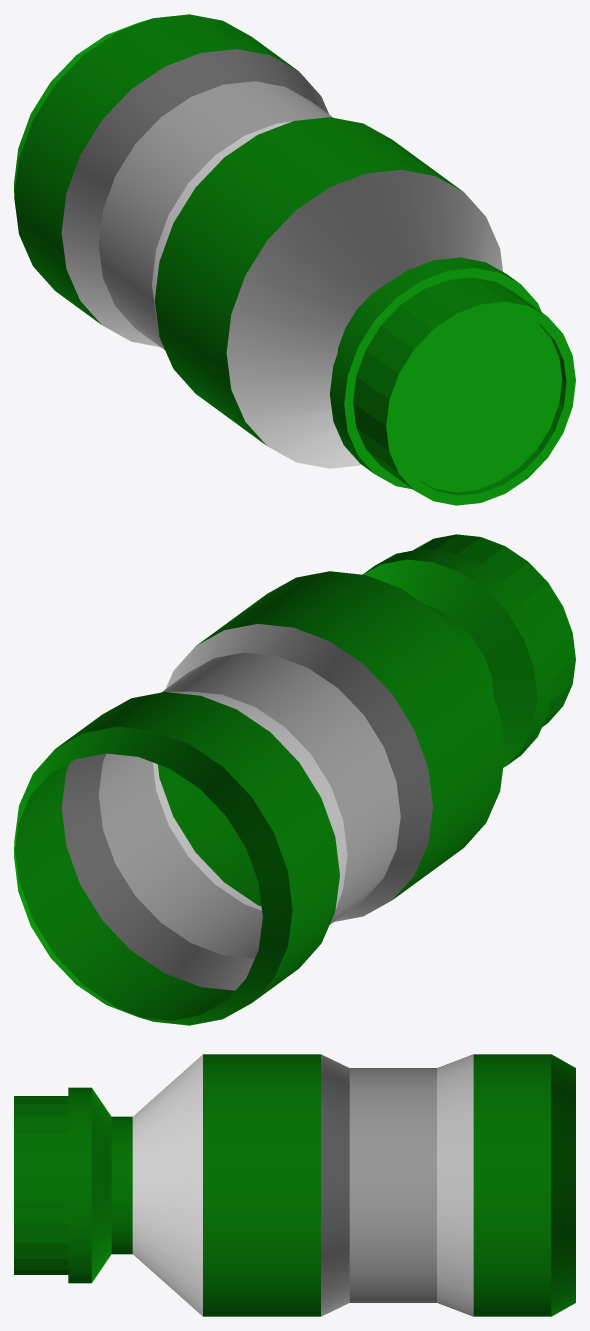
The model's file is model_align.obj.
3 renders of one model, top to bottom at view 1: azimuth 30°, elevation 25°; view 2: azimuth 150°, elevation 25°; view 3: azimuth 270°, elevation 25°, orthographic. The views are drawn at different scales.
Visible parts, largest first — view 1: mesh1_mesh1-geometry; view 2: mesh1_mesh1-geometry; view 3: mesh1_mesh1-geometry.
Part boxes in pixels (x1,y1,x2,y2): mesh1_mesh1-geometry: [14, 14, 575, 505]; mesh1_mesh1-geometry: [14, 534, 575, 1025]; mesh1_mesh1-geometry: [14, 1054, 575, 1316].
Bounding box in the file's own units: 0.1012 × 0.1012 × 0.2158.
